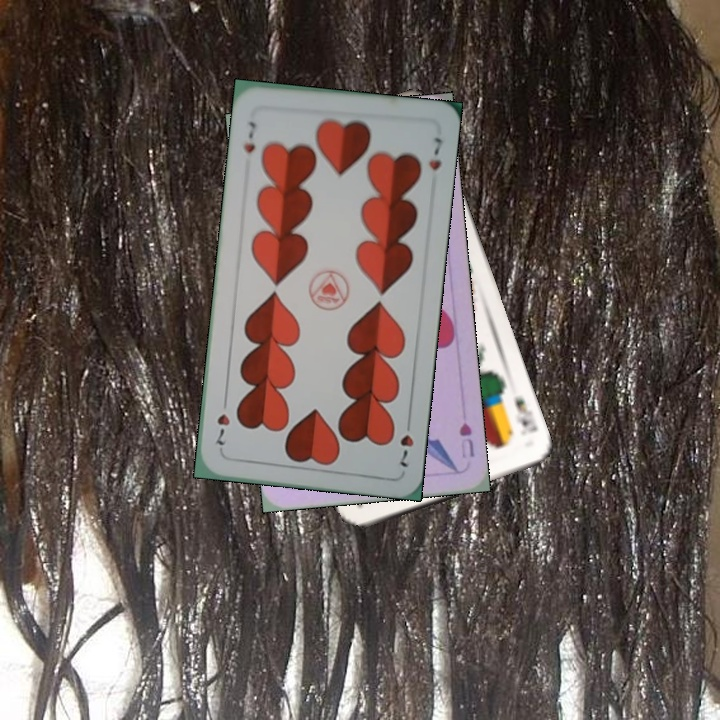EK: (510, 393, 540, 439)
H7: (395, 414, 416, 470), (239, 118, 258, 156)
HU: (455, 418, 477, 461)
